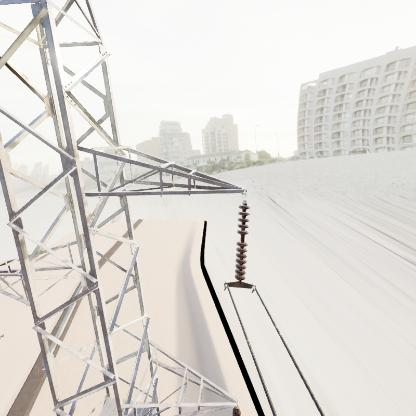insulator: (229, 201, 254, 285)
